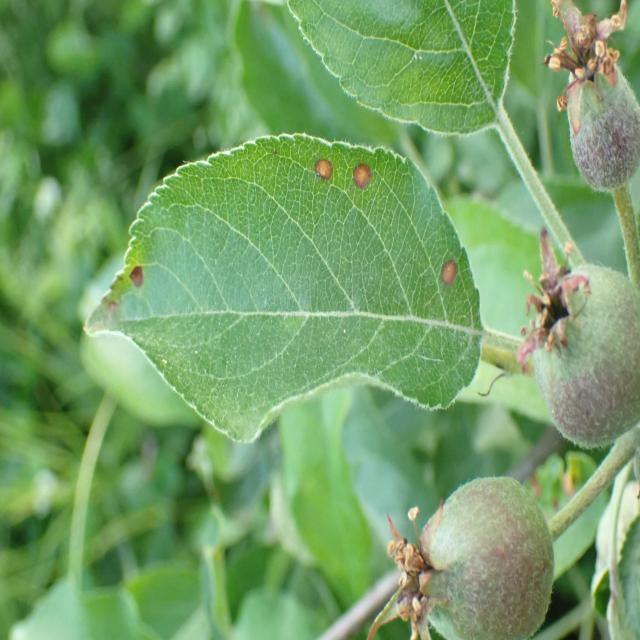Black Rot: (345, 156, 393, 207), (424, 252, 469, 296), (127, 249, 155, 311), (303, 146, 334, 188)
